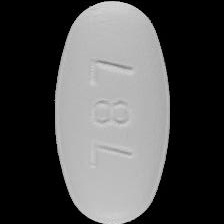61786-265: (0, 0, 224, 224)
